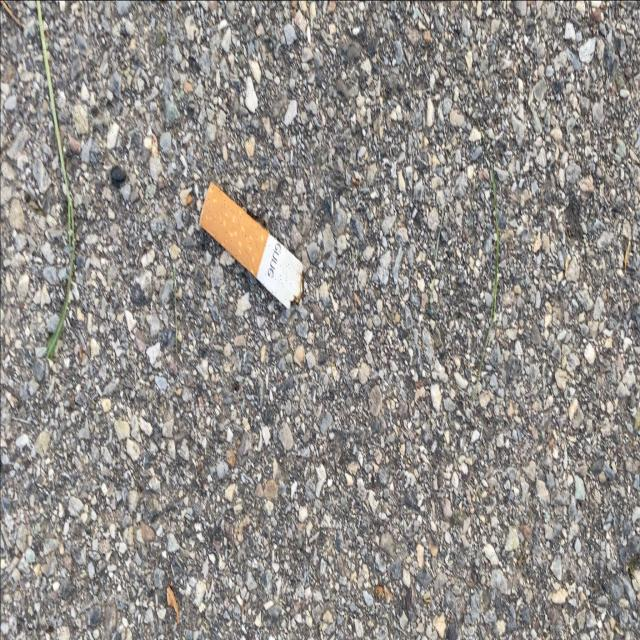other waste: (198, 178, 304, 312)
